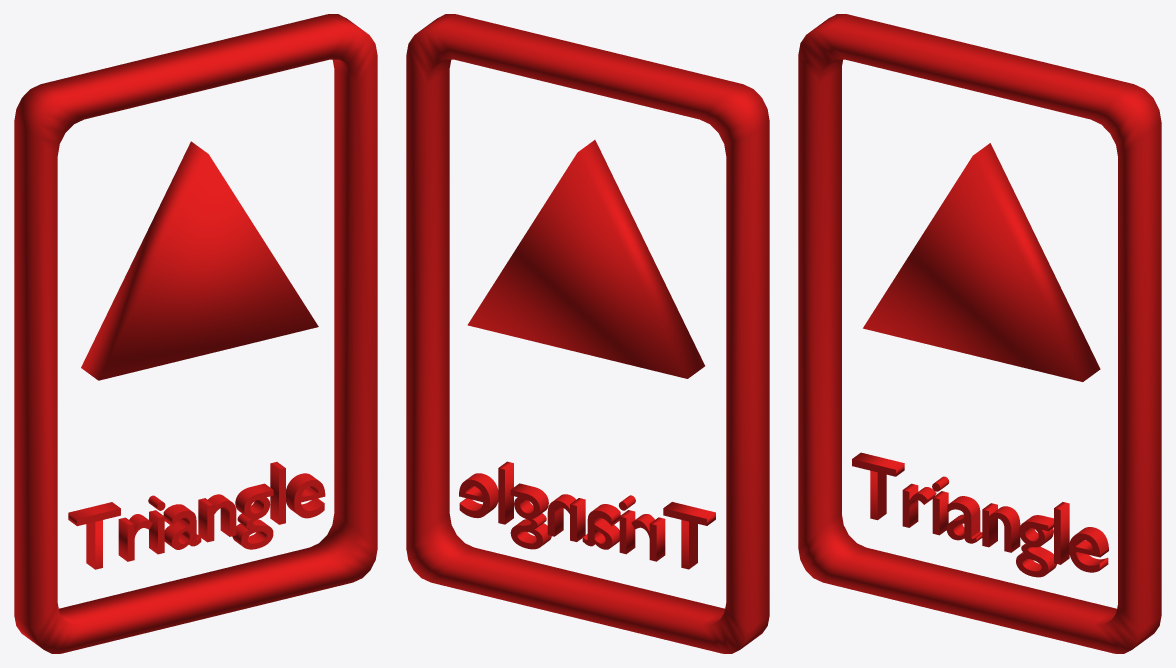
File: Shape_Triangle.gltf
The picture shows the model from 3 angles, left to right: view 1: azimuth 30°, elevation 25°; view 2: azimuth 150°, elevation 25°; view 3: azimuth 330°, elevation 25°; orthographic projection.
Visible parts, largest first — view 1: Text.015; view 2: Text.015; view 3: Text.015.
Boxes of the visible parts, <box> form: Text.015: <box>14,14,377,653</box>; Text.015: <box>406,14,769,653</box>; Text.015: <box>798,14,1161,653</box>.
Bounding box in the file's own units: 1 × 1.56 × 0.1143.
